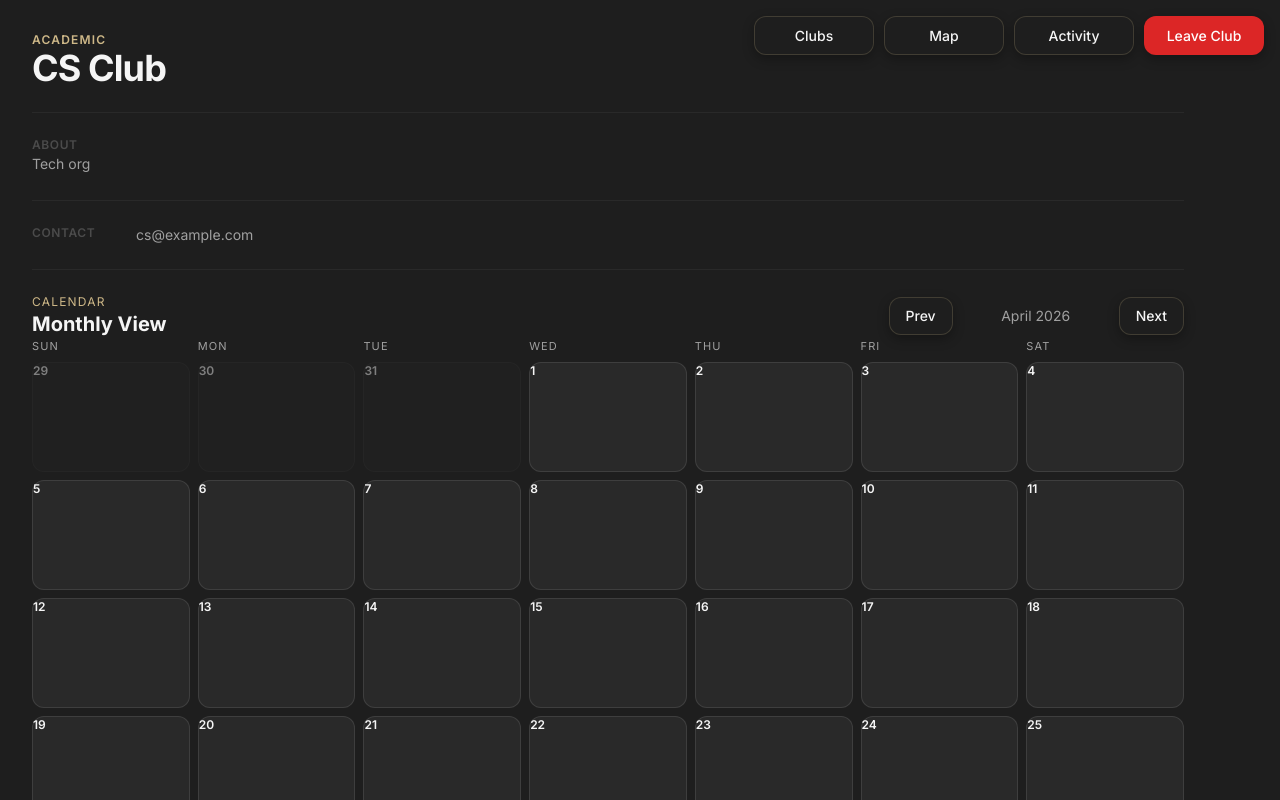
Test: ClubProfile page › shows leave club button for members and leaves successfully
expect the heading "CS Club" is shown: met, box [32,46,166,90]
Click the button "Leave Club". click: (1204, 36)
box: [1144,16,1264,55]
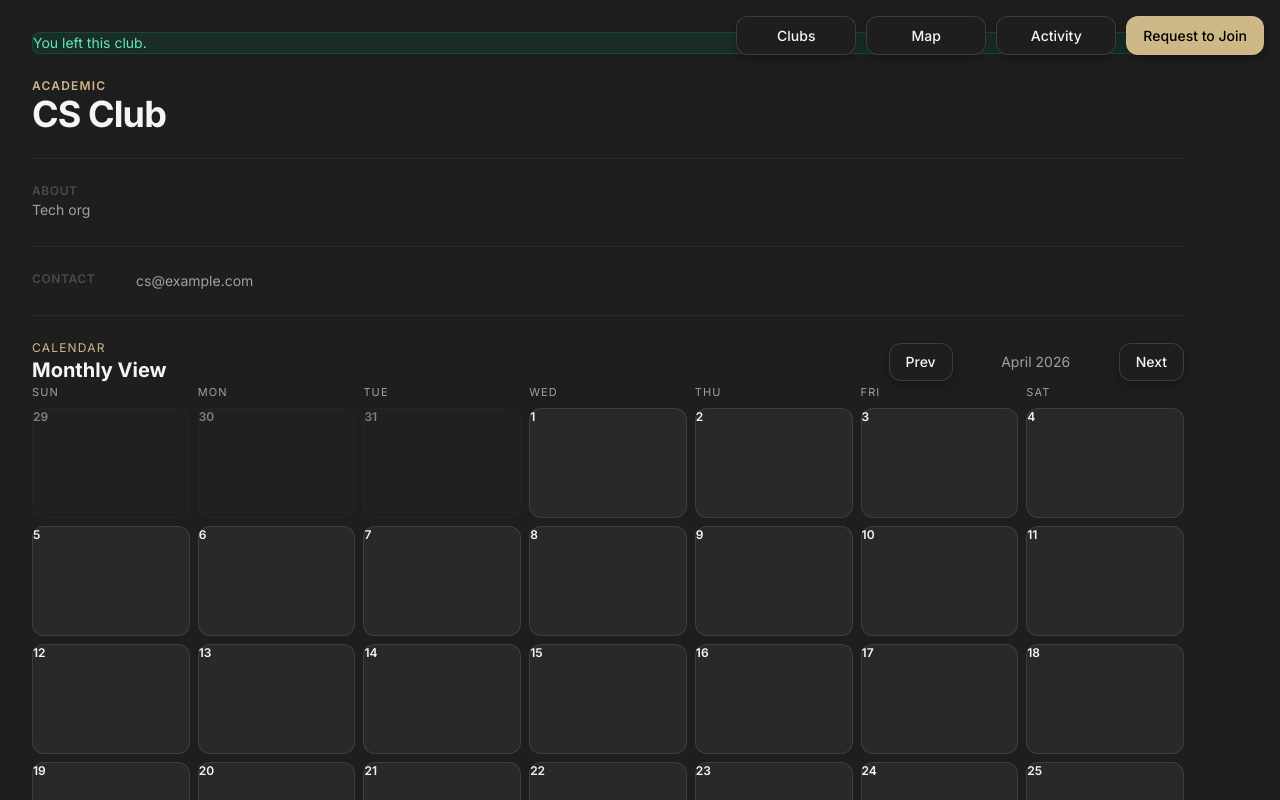
expect the text "You left this club." is shown: met, box [32,32,1184,54]
